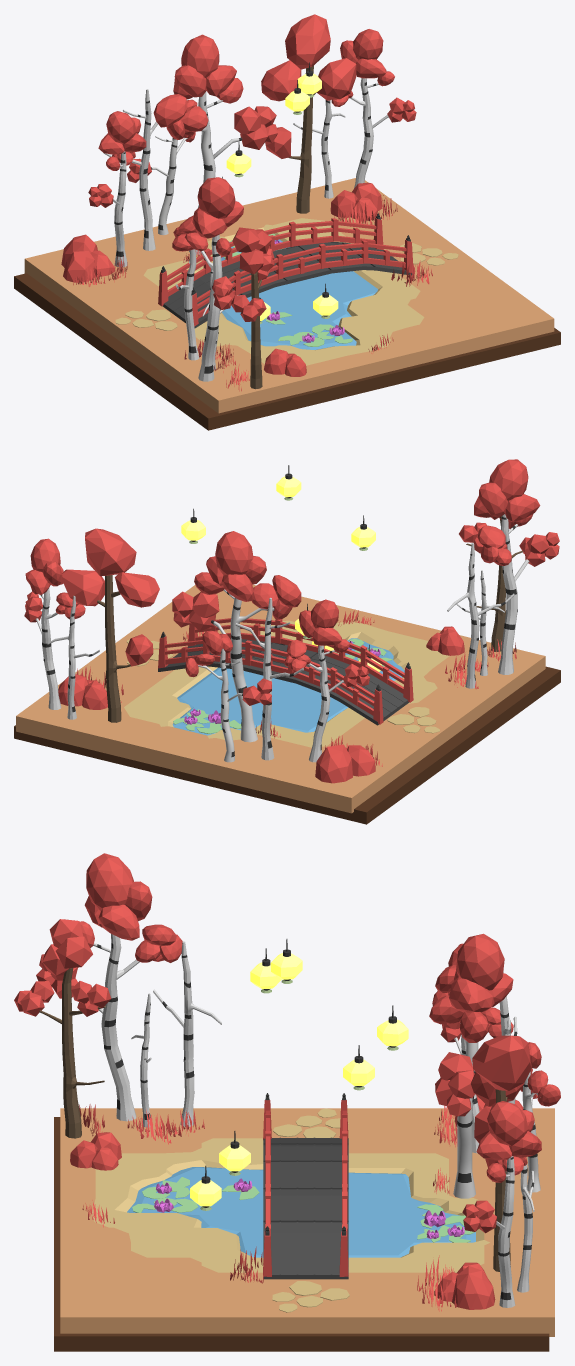
File: asset.gltf
3 views of the same model, one above another, from view 1: azimuth 30°, elevation 25°; view 2: azimuth 150°, elevation 25°; view 3: azimuth 270°, elevation 25° (orthographic). The views are drawn at different scales.
Visible parts, largest first — view 1: Cube, Cube.005, Icosphere.016, Circle, Plane.003, Cylinder.005, Cylinder.003, Cylinder.001, Icosphere.010, Icosphere.017, Cylinder.006, Icosphere.018 (+4 smaller); view 2: Cube, Cube.005, Icosphere.016, Circle, Cylinder.005, Plane.003, Cylinder.001, Cylinder.003, Icosphere.001, Icosphere.017, Icosphere.010, Cylinder.006 (+8 smaller); view 3: Cube, Cube.005, Plane.003, Icosphere.016, Cylinder.005, Icosphere.010, Cylinder.003, Circle, Cylinder.004, Icosphere.018, Icosphere.001, Icosphere.002 (+10 smaller).
Part boxes in pixels (box(x1,y1,x2,y2)): Cube: box(14, 178, 560, 430); Cube.005: box(158, 213, 412, 328); Icosphere.016: box(153, 34, 277, 254); Circle: box(261, 14, 356, 213); Plane.003: box(221, 239, 377, 349); Cylinder.005: box(172, 177, 243, 381); Cylinder.003: box(326, 29, 416, 188); Cylinder.001: box(88, 111, 146, 267); Icosphere.010: box(231, 227, 274, 389); Icosphere.017: box(61, 234, 114, 282); Cylinder.006: box(103, 89, 157, 250); Icosphere.018: box(330, 182, 382, 220); Cube: box(14, 584, 560, 824); Cube.005: box(158, 618, 413, 725); Icosphere.016: box(172, 531, 301, 742); Circle: box(62, 528, 159, 722); Cylinder.005: box(474, 459, 559, 674); Plane.003: box(172, 638, 404, 735); Cylinder.001: box(284, 599, 369, 762); Cylinder.003: box(24, 538, 85, 709); Icosphere.001: box(185, 630, 271, 762); Icosphere.017: box(315, 744, 375, 783); Icosphere.010: box(459, 493, 545, 651); Cylinder.006: box(235, 597, 303, 760); Cube: box(54, 1108, 554, 1351); Cube.005: box(263, 1093, 348, 1279); Plane.003: box(127, 1167, 475, 1257); Icosphere.016: box(429, 933, 513, 1198); Cylinder.005: box(36, 853, 182, 1121); Icosphere.010: box(14, 919, 111, 1138); Cylinder.003: box(462, 1101, 541, 1307); Circle: box(470, 1035, 531, 1271); Cylinder.004: box(153, 941, 221, 1126); Icosphere.018: box(434, 1262, 495, 1309); Icosphere.001: box(520, 1042, 560, 1192); Icosphere.002: box(70, 1132, 121, 1170).
Bounding box in the file's own units: 11.36 × 7.01 × 11.37.
